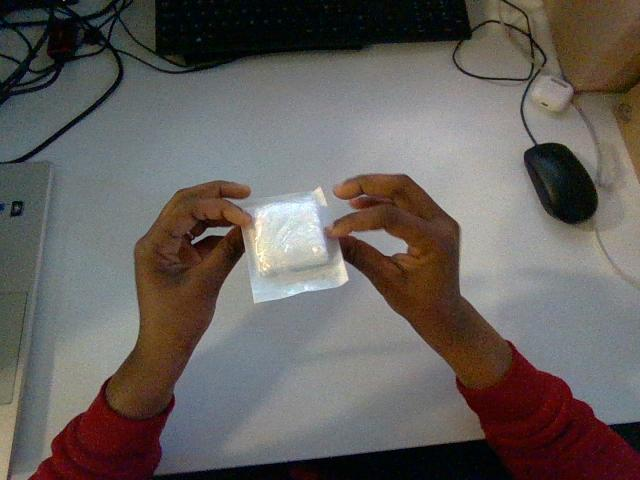gauze: (242, 188, 347, 302)
